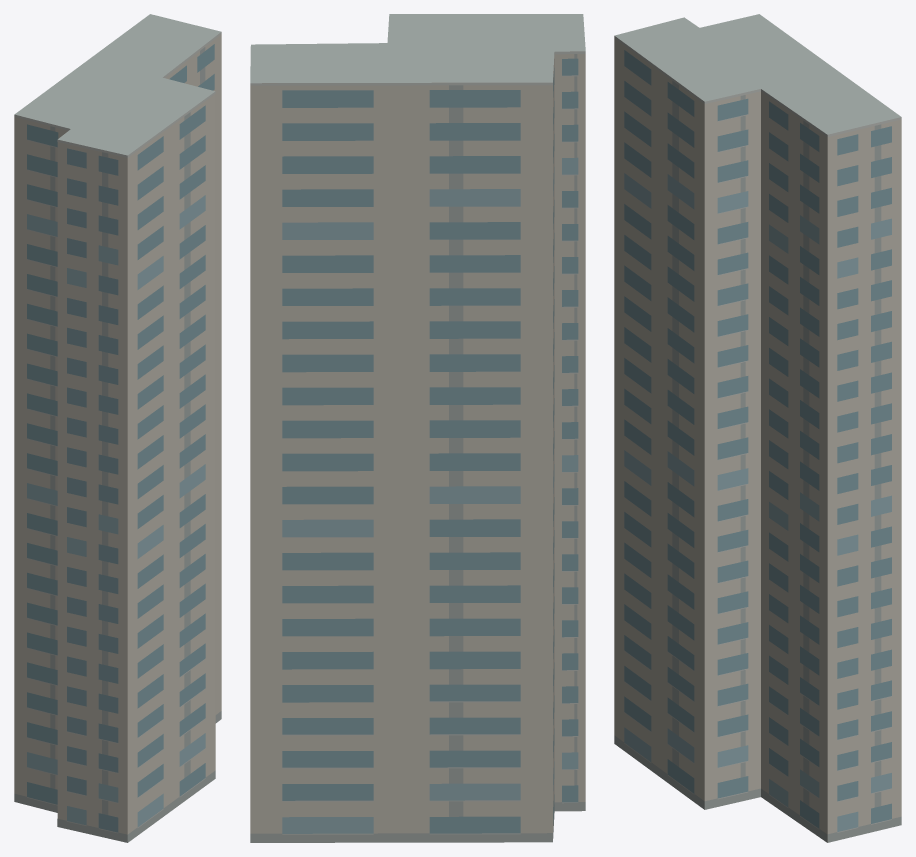
The model's file is survey-upis-32935687.glb.
3 renders of one model, left to right at view 1: azimuth 30°, elevation 25°; view 2: azimuth 150°, elevation 25°; view 3: azimuth 270°, elevation 25°, orthographic. The views are drawn at different scales.
Visible parts, largest first — view 1: survey-upis-32935687.tmp; view 2: survey-upis-32935687.tmp; view 3: survey-upis-32935687.tmp.
Part boxes in pixels (x1,y1,x2,y2): survey-upis-32935687.tmp: (14,14,221,842); survey-upis-32935687.tmp: (250,14,585,842); survey-upis-32935687.tmp: (614,14,901,842).
Bounding box in the file's own units: 25.66 × 70.15 × 25.8.
